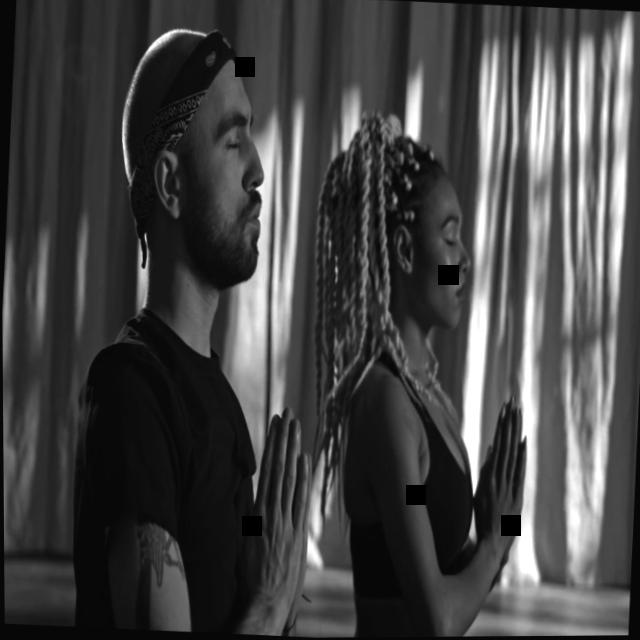NO-Mask: (169, 68, 270, 291), (405, 177, 476, 334)
